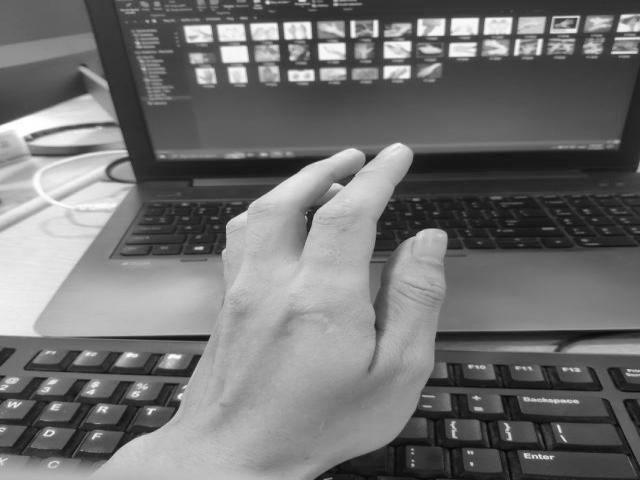not-gloved: (186, 140, 452, 480)
